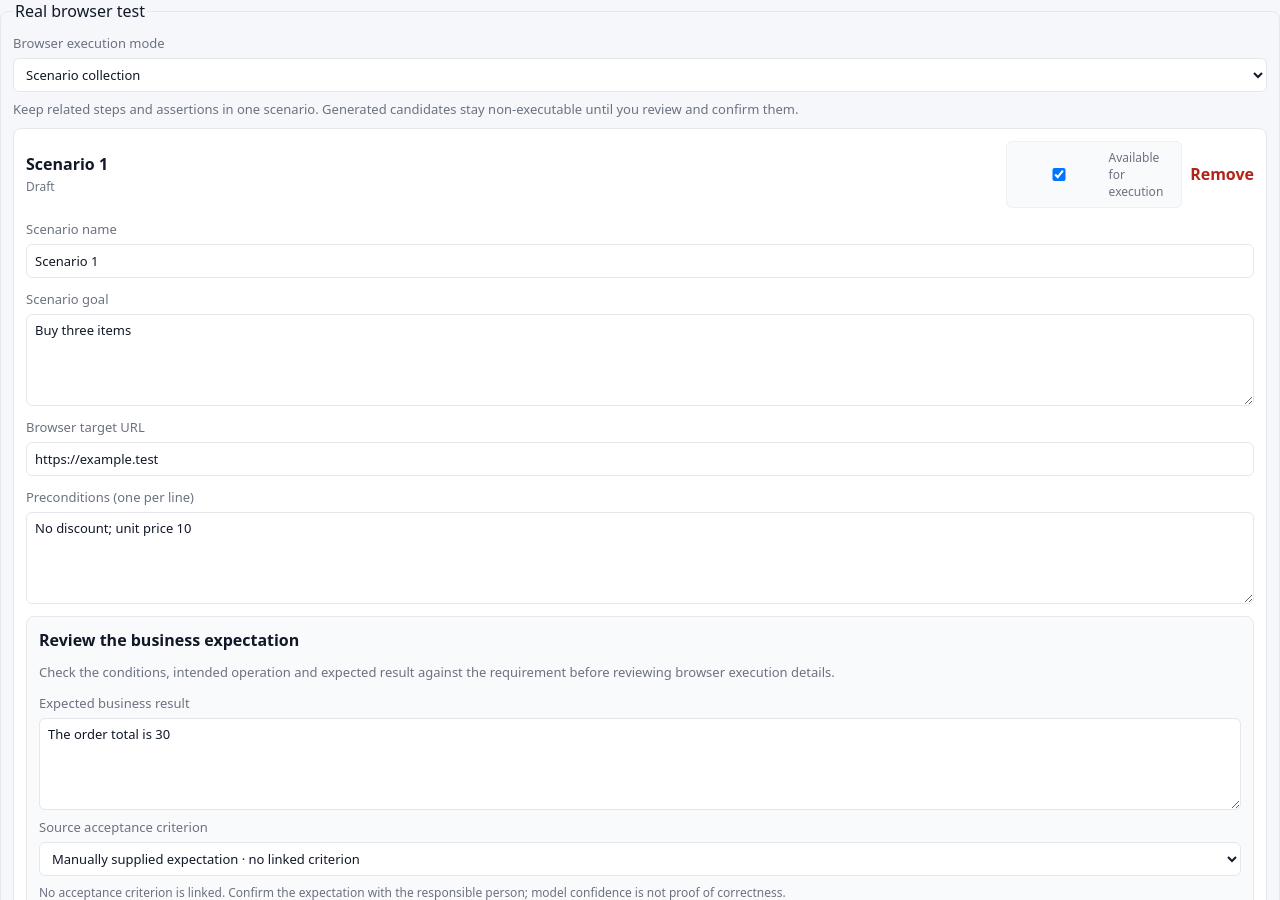
it: business expectation review › shows the business result before collapsed execution details and preserves source on save
Later steps or results of the test are not shown.
Expected: the text box named "Expected business result 1" holds "The order total is 30", [39,718,1241,810]
Step 1. Select "Three items at 10 each cost 30" in the dropdown named "Source acceptance criterion 1" → (640, 859), box [39,842,1241,876]
(page scrolled)
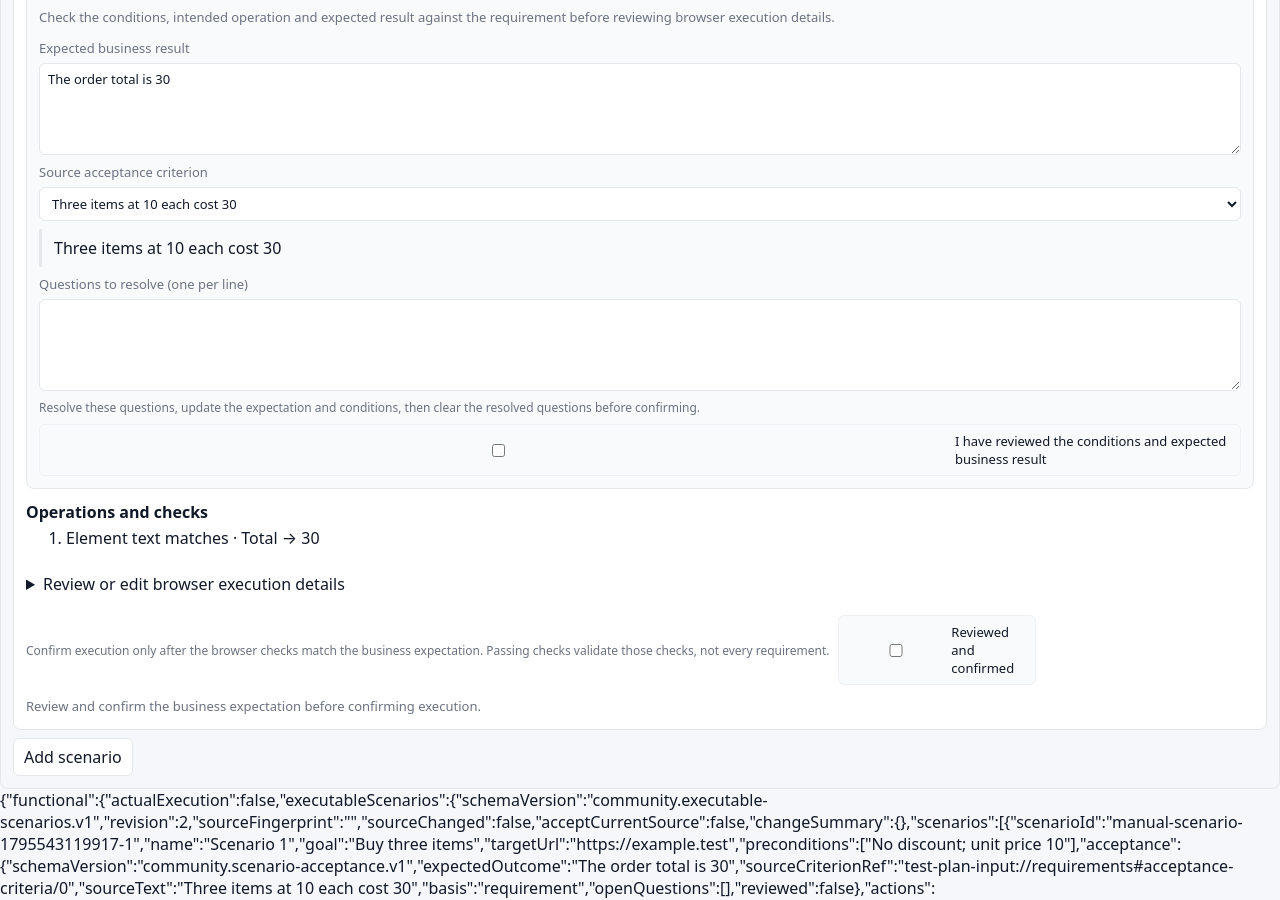
Expected: the text "Three items at 10 each cost 30" is shown, [39,229,1241,267]
